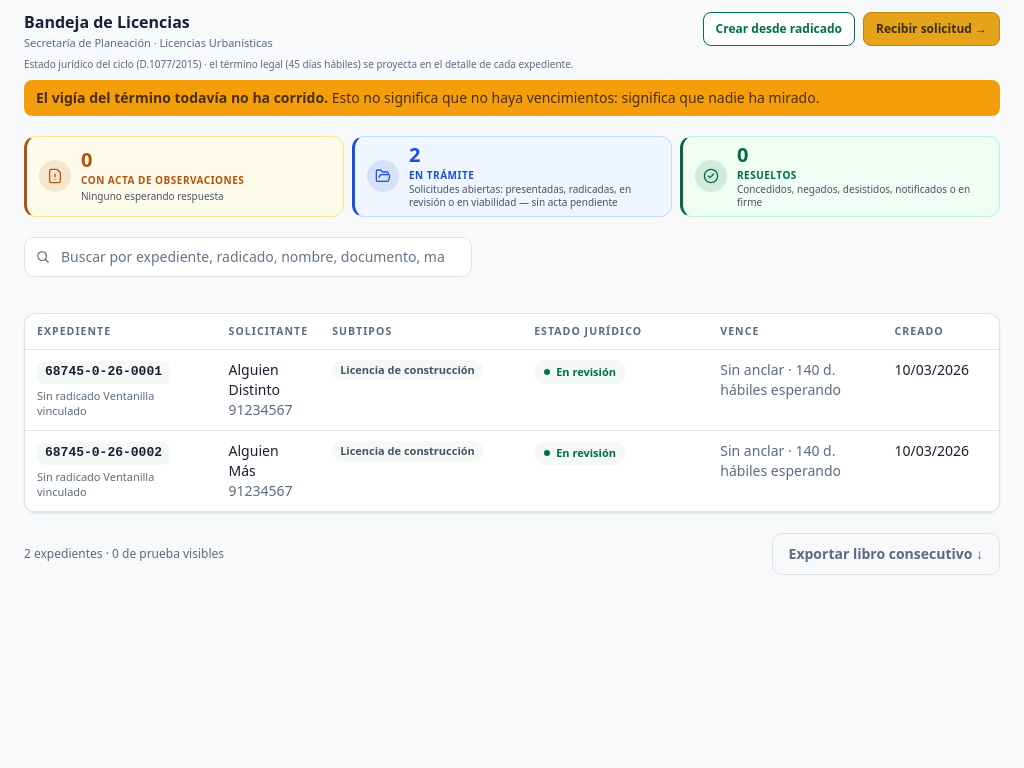
Test: BandejaLicenciasClient — buscador rápido › KPIs no cambian con la búsqueda activa (siguen sobre el total de expedientes)
The width and height of the screenshot is (1024, 768).
Expected: the text "68745-0-26-0002" is shown, [37,442,170,465]
Step 1. Replace the text in the search field named "Buscar en la bandeja de licencias por expediente, radicado, solicitante, documento, matrícula inmobiliaria, tipo o estad" with "Distinto" → (248, 257), box [24,237,472,277]
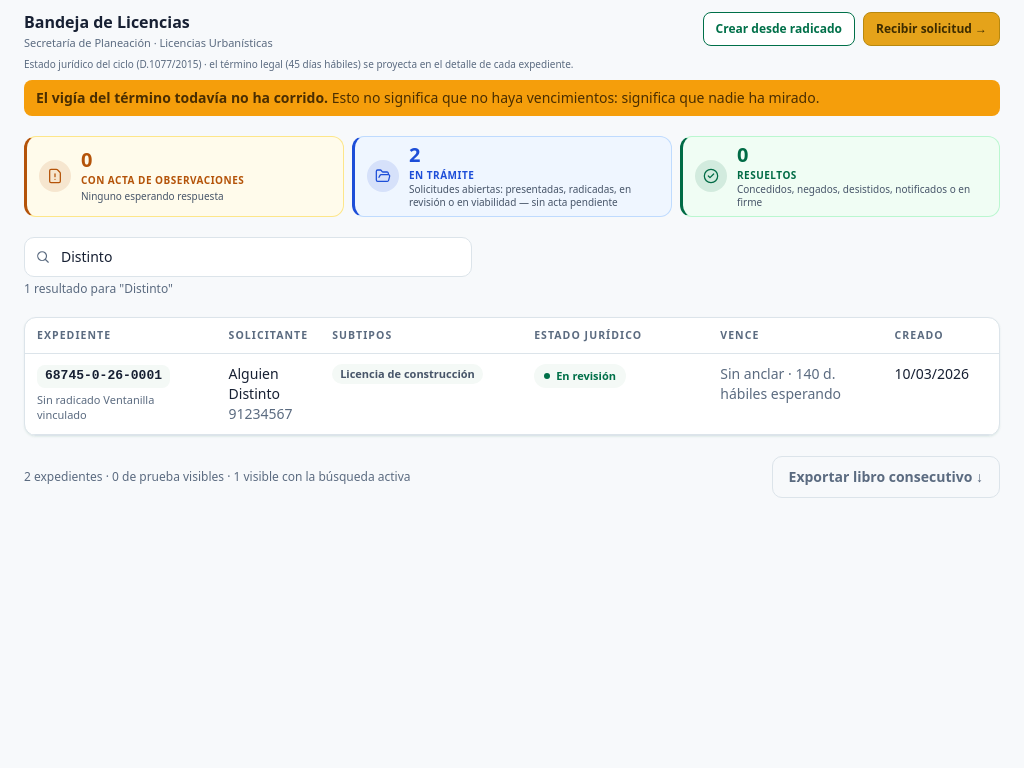
Now the link "68745-0-26-0002" is gone
